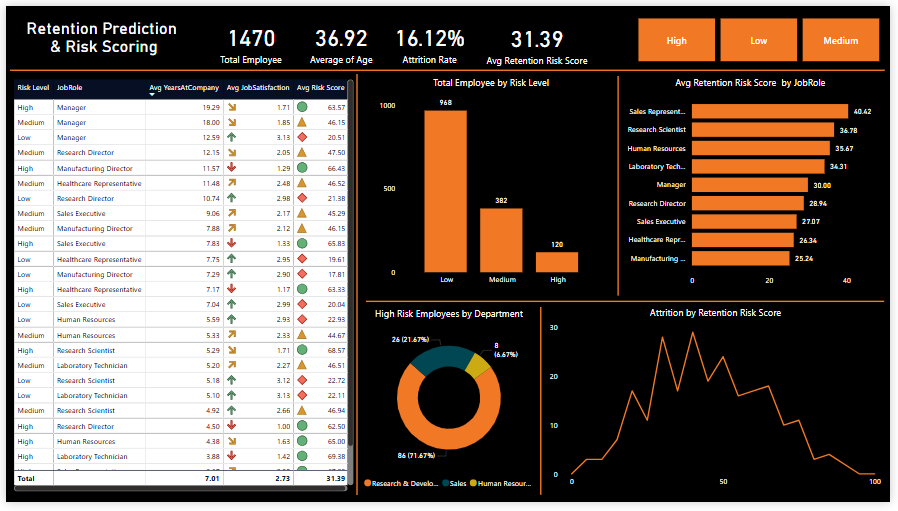

The page's visual inventory and layout, read from the dashboard file:
{"tool":"powerbi","page":{"name":"Retention Prediction & Risk Scoring","canvas":[1280,720],"ordinal":1},"visuals":[{"type":"columnChart","title":"Total Employee by Risk Level","fields":{"Category":["HR-Employee-Attrition.Risk Level"],"Y":["HR-Employee-Attrition.Total Employees"]},"box":[535.6,101.9,333.7,313.5],"z":1000},{"type":"clusteredBarChart","title":"Avg Retention Risk Score  by JobRole","fields":{"Category":["HR-Employee-Attrition.JobRole"],"Y":["Avg(HR-Employee-Attrition.Retention Risk Score)"]},"box":[883.9,101.4,389.4,313.8],"z":2000},{"type":"lineChart","title":"Attrition by Retention Risk Score","fields":{"Y":["Sum(HR-Employee-Attrition.Attrition(Num))"],"Category":["HR-Employee-Attrition.Retention Risk Score"]},"box":[782.6,434.8,491.3,272.5],"z":3000},{"type":"textbox","box":[5.7,12.8,272.1,72.3],"z":5000},{"type":"card","fields":{"Values":["Sum(HR-Employee-Attrition.EmployeeCount)"]},"box":[287.7,11.1,133.4,80.6],"z":6000},{"type":"card","fields":{"Values":["Avg(HR-Employee-Attrition.Age)"]},"box":[424.4,11.1,122.3,80.6],"z":7000},{"type":"card","fields":{"Values":["HR-Employee-Attrition.Attrition Rate"]},"box":[550,11.1,129.3,80.6],"z":8000},{"type":"card","fields":{"Values":["Avg(HR-Employee-Attrition.Retention Risk Score)"]},"box":[682.5,12.5,173.7,80.6],"z":9000},{"type":"tableEx","fields":{"Values":["HR-Employee-Attrition.Risk Level","HR-Employee-Attrition.JobRole","Avg(HR-Employee-Attrition.YearsAtCompany)","Avg(HR-Employee-Attrition.JobSatisfaction)","Avg(HR-Employee-Attrition.Retention Risk Score)"]},"box":[5.7,102,503.1,606.6],"z":10000},{"type":"advancedSlicerVisual","fields":{"Values":["HR-Employee-Attrition.Risk Level"]},"box":[911.8,12.5,361.4,72.3],"z":12000},{"type":"shape","box":[495.7,98.6,26.1,610.1],"z":17000},{"type":"shape","box":[874.3,101.5,26.4,318.3],"z":19000},{"type":"shape","box":[522.3,420.9,751,15.5],"z":22000},{"type":"shape","box":[5.6,84.8,1267.6,15.3],"z":23000},{"type":"donutChart","fields":{"Y":["Sum(HR-Employee-Attrition.High Risk Employees)"],"Category":["HR-Employee-Attrition.Department"]},"box":[508.7,436.2,266.7,272.5],"z":23001},{"type":"shape","box":[759.7,436.5,31.2,272.1],"z":23002}]}

Visuals, with their boxes in screenshot pixels (x1, y1, x2, y2), scaled from the page's 1280x720 canvas onto the 898x511 screenshot:
"Total Employee by Risk Level" columnChart: pyautogui.locateOnScreen(376, 72, 610, 295)
"Avg Retention Risk Score  by JobRole" clusteredBarChart: pyautogui.locateOnScreen(620, 72, 893, 295)
"Attrition by Retention Risk Score" lineChart: pyautogui.locateOnScreen(549, 309, 894, 502)
textbox: pyautogui.locateOnScreen(4, 9, 195, 60)
card - Sum(HR-Employee-Attrition.EmployeeCount): pyautogui.locateOnScreen(202, 8, 295, 65)
card - Avg(HR-Employee-Attrition.Age): pyautogui.locateOnScreen(298, 8, 384, 65)
card - HR-Employee-Attrition.Attrition Rate: pyautogui.locateOnScreen(386, 8, 477, 65)
card - Avg(HR-Employee-Attrition.Retention Risk Score): pyautogui.locateOnScreen(479, 9, 601, 66)
tableEx - HR-Employee-Attrition.Risk Level x HR-Employee-Attrition.JobRole: pyautogui.locateOnScreen(4, 72, 357, 503)
advancedSlicerVisual - HR-Employee-Attrition.Risk Level: pyautogui.locateOnScreen(640, 9, 893, 60)
shape: pyautogui.locateOnScreen(348, 70, 366, 503)
shape: pyautogui.locateOnScreen(613, 72, 632, 298)
shape: pyautogui.locateOnScreen(366, 299, 893, 310)
shape: pyautogui.locateOnScreen(4, 60, 893, 71)
donutChart - Sum(HR-Employee-Attrition.High Risk Employees) x HR-Employee-Attrition.Department: pyautogui.locateOnScreen(357, 310, 544, 503)
shape: pyautogui.locateOnScreen(533, 310, 555, 503)
